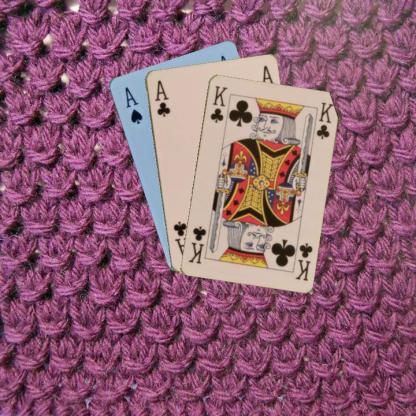Ac: (152, 77, 171, 118)
As: (122, 84, 144, 125)
Kc: (207, 82, 229, 124), (292, 240, 314, 282)
